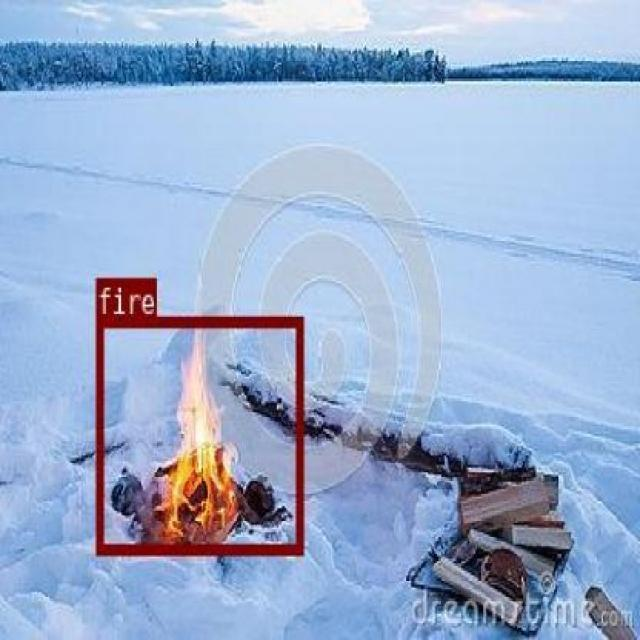Fire: (96, 316, 302, 553)
